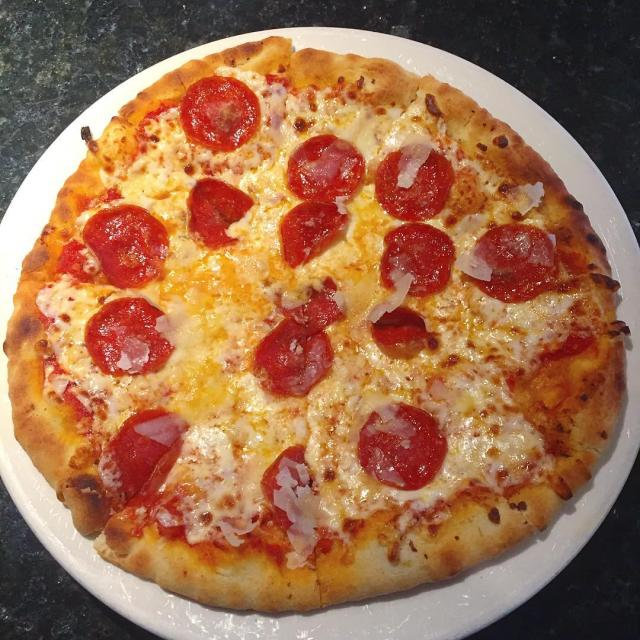pepperoni: (99, 409, 189, 507), (360, 404, 448, 490), (460, 224, 556, 302), (82, 205, 169, 288), (85, 297, 173, 375), (181, 76, 260, 151), (375, 150, 455, 221), (266, 318, 334, 396), (288, 135, 365, 201), (187, 178, 254, 248), (263, 446, 316, 534), (280, 201, 349, 268), (381, 224, 435, 296), (372, 306, 439, 358)
pizza: (5, 38, 625, 611)
